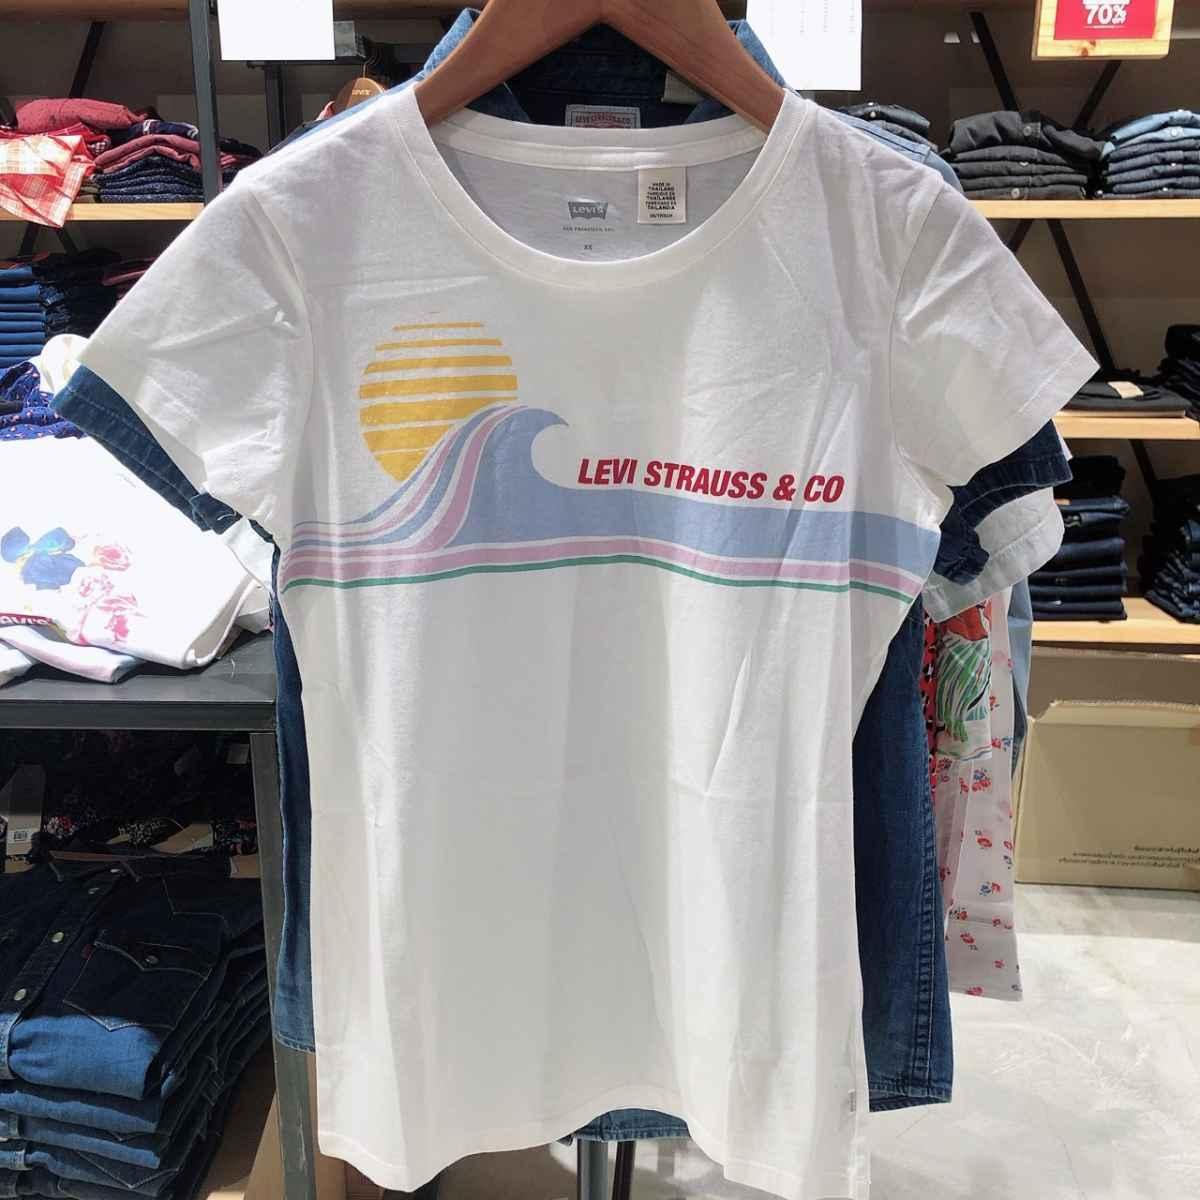Tshirt: (76, 85, 1131, 1200)
